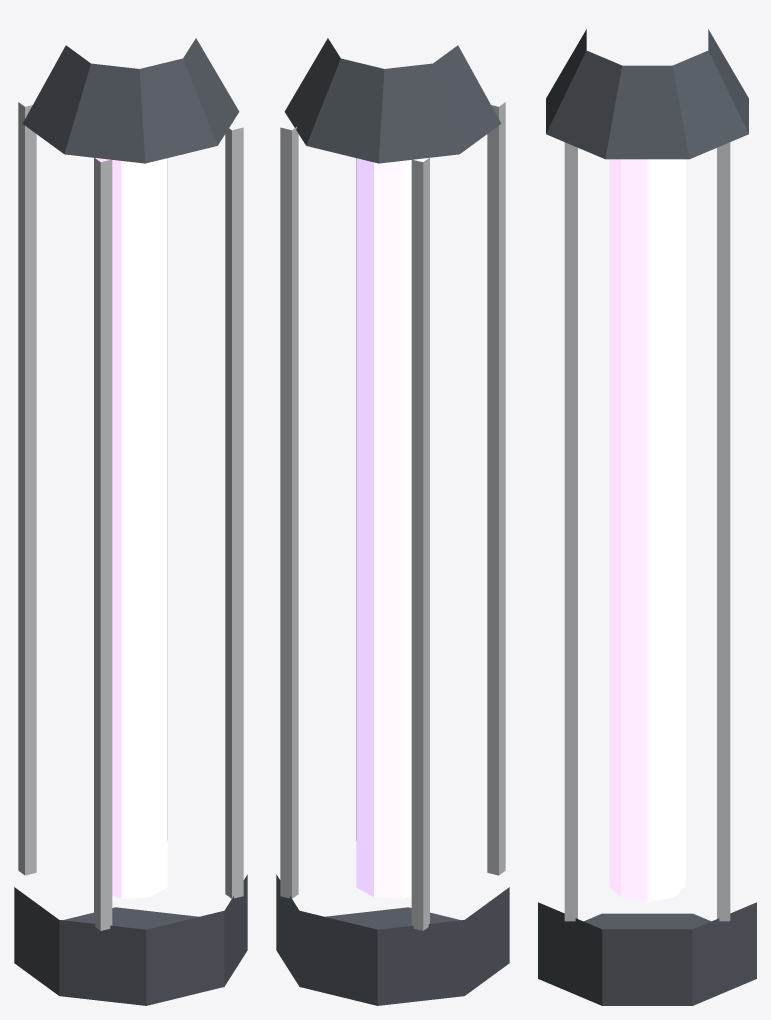
Rendered from ext_violet_field_lamp_02.glb.
The picture shows the model from 3 angles, left to right: view 1: azimuth 30°, elevation 25°; view 2: azimuth 150°, elevation 25°; view 3: azimuth 270°, elevation 25°; orthographic projection.
Parts seen in each view (by area): view 1: Cage_Bars, Core, Base, Cap; view 2: Cage_Bars, Core, Base, Cap; view 3: Core, Cage_Bars, Base, Cap.
Boxes of the visible parts, x1,y1,x2,y2 form: Cage_Bars: (18,102,243,930); Core: (95,158,167,898); Base: (14,874,247,1005); Cap: (22,38,239,163); Cage_Bars: (280,102,505,930); Core: (356,158,428,898); Base: (276,874,509,1005); Cap: (284,38,501,163); Core: (609,159,685,902); Cage_Bars: (564,142,730,921); Base: (538,902,756,1005); Cap: (546,29,748,159).
Bounding box in the file's own units: 0.2587 × 1.2 × 0.2587.
